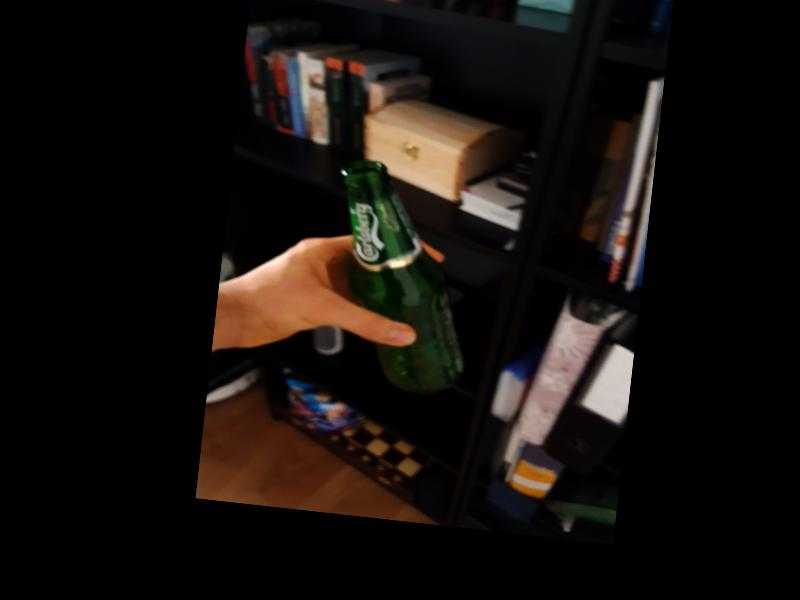Beer: (320, 158, 488, 398)
